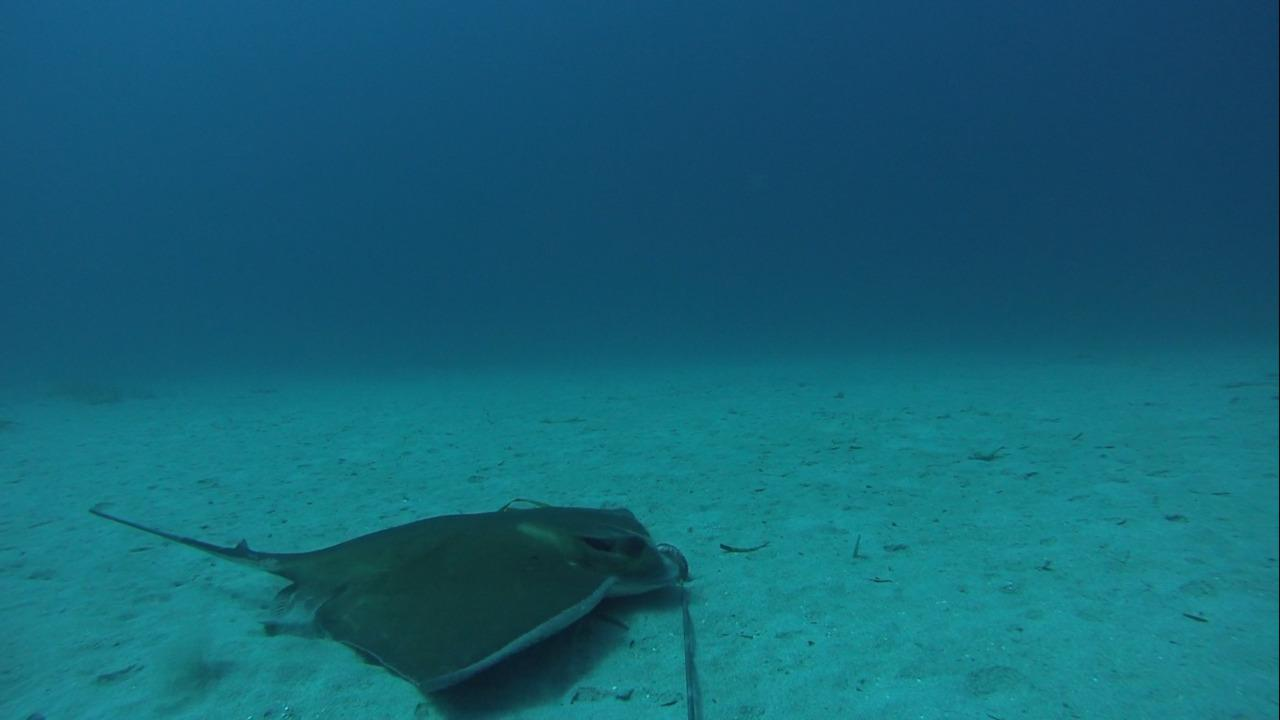myliobatis: (81, 495, 677, 695)
